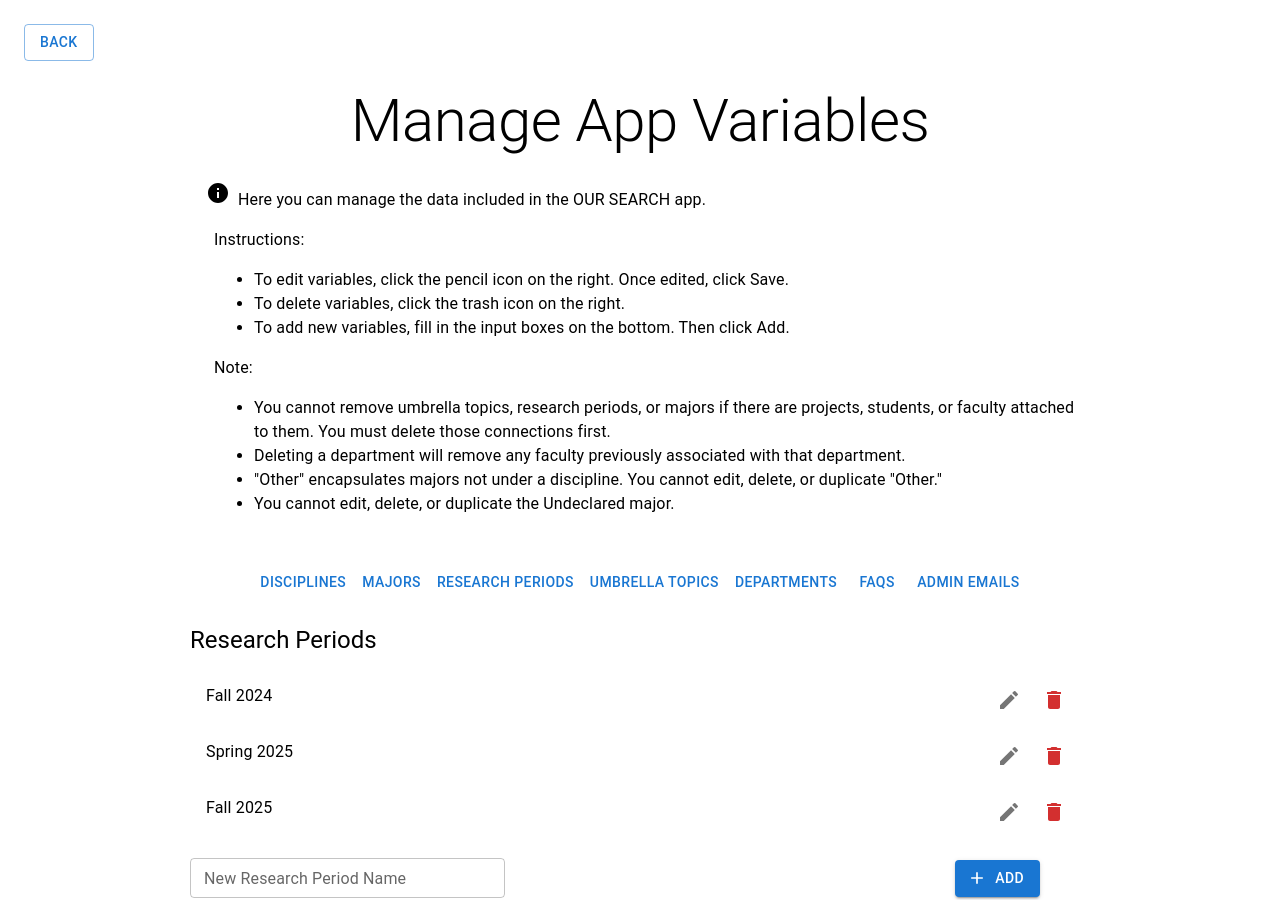
Test: ManageVariables › handling research periods › deleting › asks for confirmation before deleting
Step 1. Click the 1st button with test id "delete-period-btn" → [1054, 700], box [1034,680,1074,720]
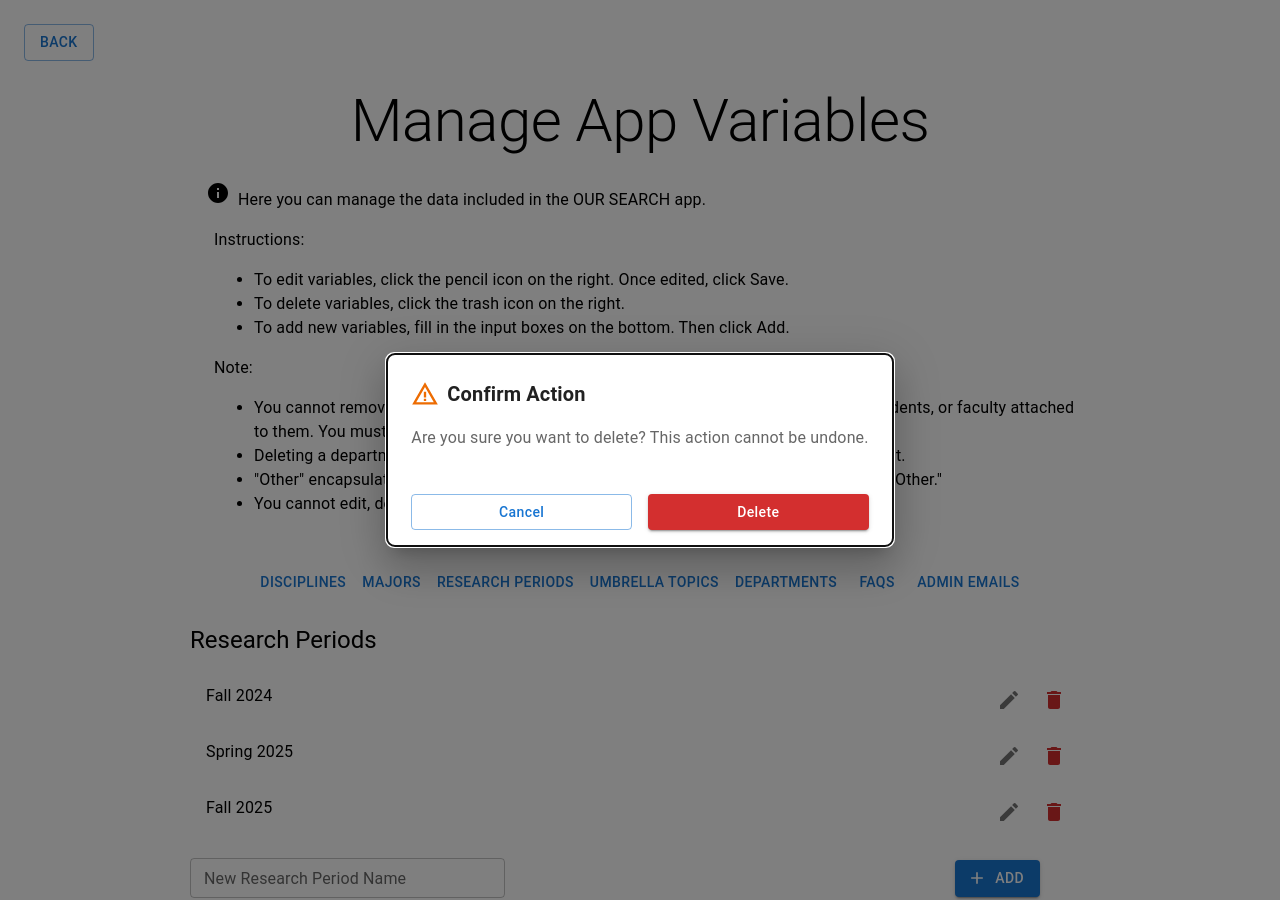
Check: the text "Are you sure you want to delete" is shown, box [411,426,869,450]
Check: the button with test id "confirm" is shown, box [648,494,869,530]
